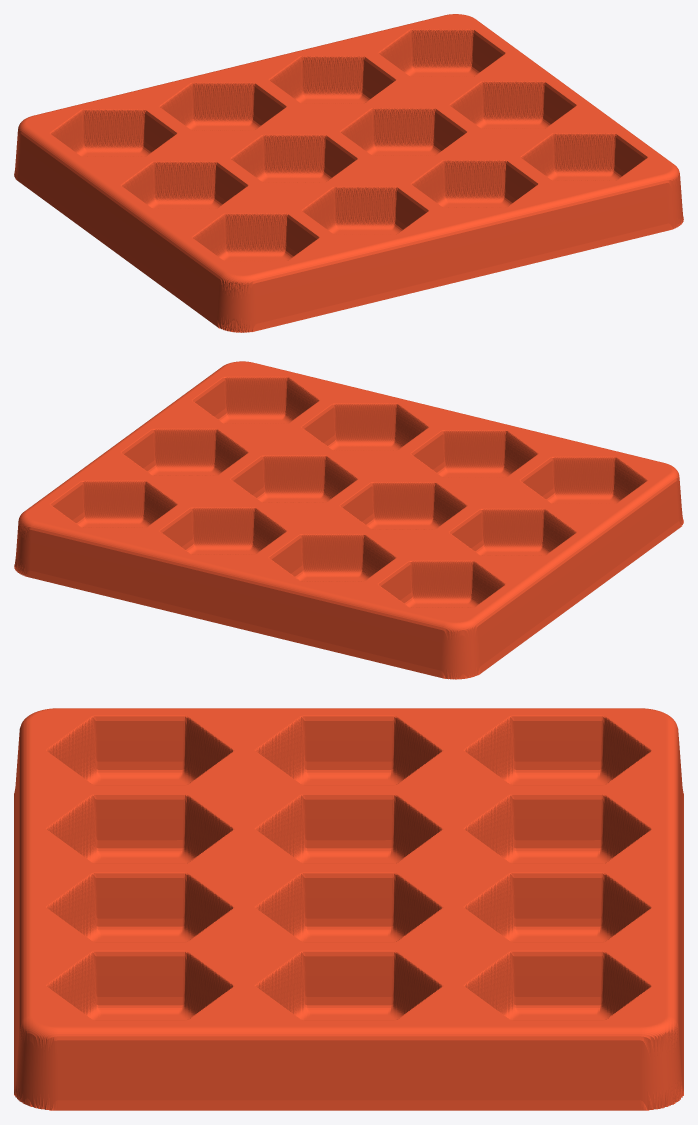
Rendered from mold.glb.
The picture shows the model from 3 angles, top to bottom: view 1: azimuth 30°, elevation 25°; view 2: azimuth 150°, elevation 25°; view 3: azimuth 270°, elevation 25°; orthographic projection. The views are drawn at different scales.
Visible parts, largest first — view 1: geometry_0; view 2: geometry_0; view 3: geometry_0.
Boxes of the visible parts, box(x1,y1,x2,y2) form: geometry_0: box(14, 14, 683, 332); geometry_0: box(14, 361, 683, 679); geometry_0: box(14, 708, 683, 1110).
Size of the model in its own units: 0.1629 by 0.0175 by 0.1389.
